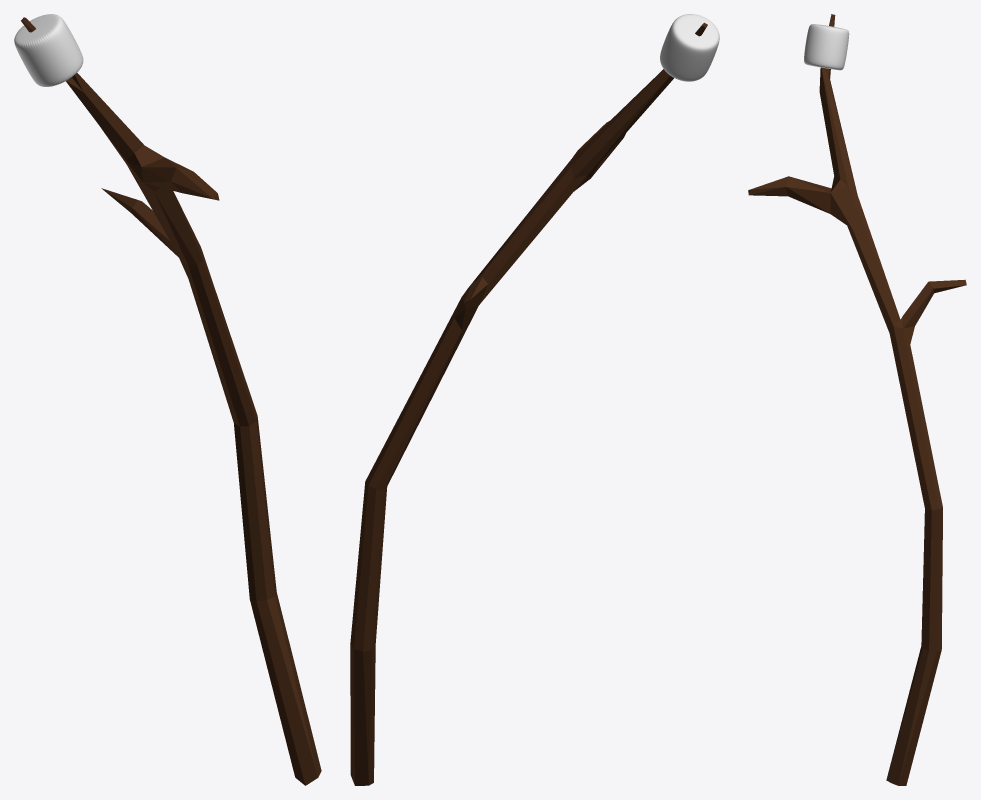
Rendered from roasting stick.fbx.
3 views of the same model, side by side, from view 1: azimuth 30°, elevation 25°; view 2: azimuth 150°, elevation 25°; view 3: azimuth 270°, elevation 25° (orthographic). The views are drawn at different scales.
Parts seen in each view (by area): view 1: Cube, Cylinder; view 2: Cube, Cylinder; view 3: Cube, Cylinder.
Part boxes in pixels (bbox=[...]): Cube: bbox=[21, 17, 321, 785]; Cylinder: bbox=[14, 14, 83, 86]; Cube: bbox=[350, 22, 707, 785]; Cylinder: bbox=[660, 14, 719, 81]; Cube: bbox=[748, 14, 966, 785]; Cylinder: bbox=[804, 24, 849, 70].
Bounding box in the file's own units: 77.65 × 185 × 56.27.
